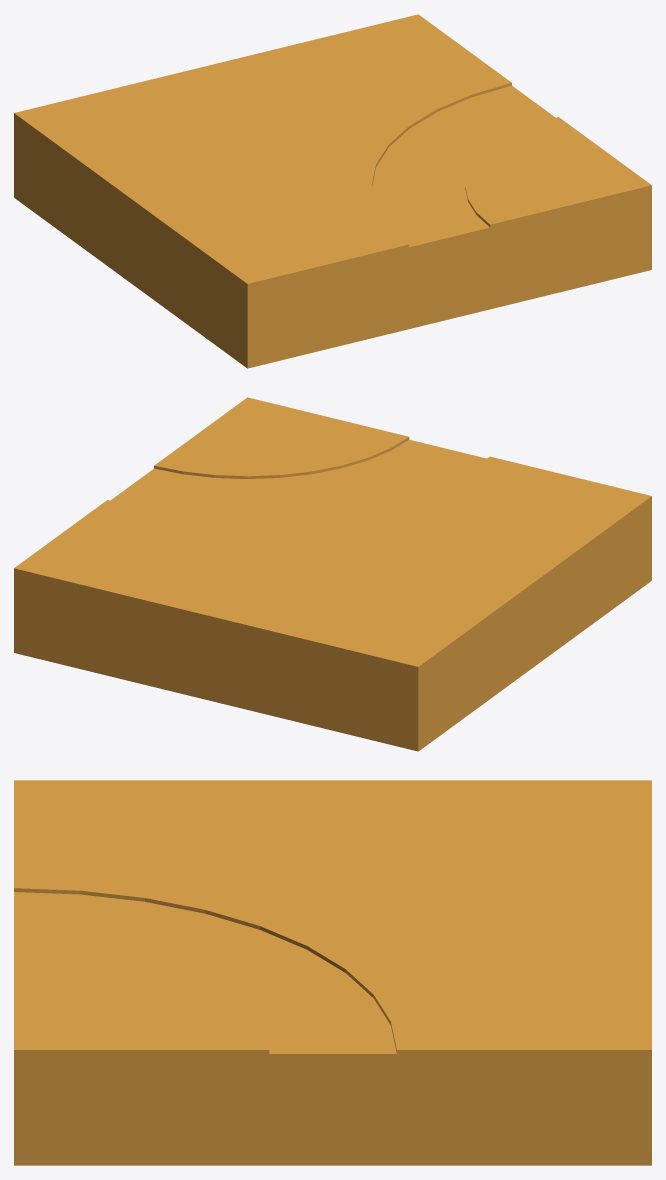
File: tile-road-curve.glb
3 views of the same model, one above another, from view 1: azimuth 30°, elevation 25°; view 2: azimuth 150°, elevation 25°; view 3: azimuth 270°, elevation 25° (orthographic). The views are drawn at different scales.
Visible parts, largest first — view 1: tile-road-curve; view 2: tile-road-curve; view 3: tile-road-curve.
Boxes of the visible parts, box(x1,y1,x2,y2) form: tile-road-curve: box(14, 14, 651, 368); tile-road-curve: box(14, 397, 651, 751); tile-road-curve: box(14, 780, 651, 1165).
Size of the model in its own units: 30 by 6 by 30.
